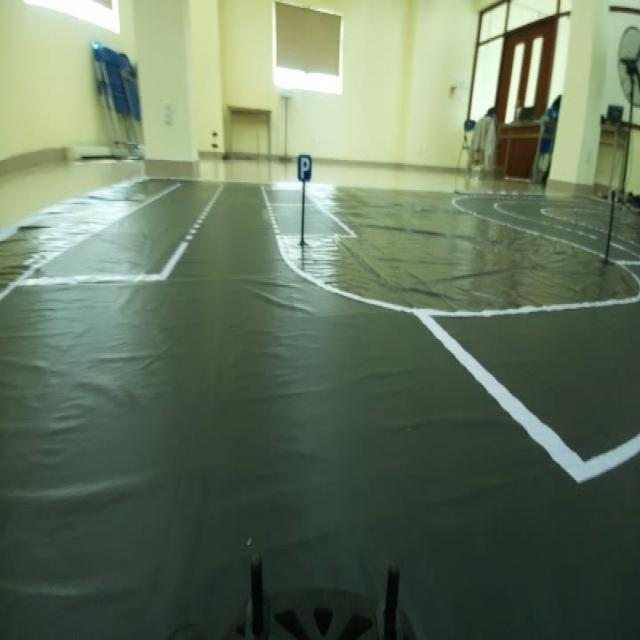parking: (290, 145, 322, 186)
